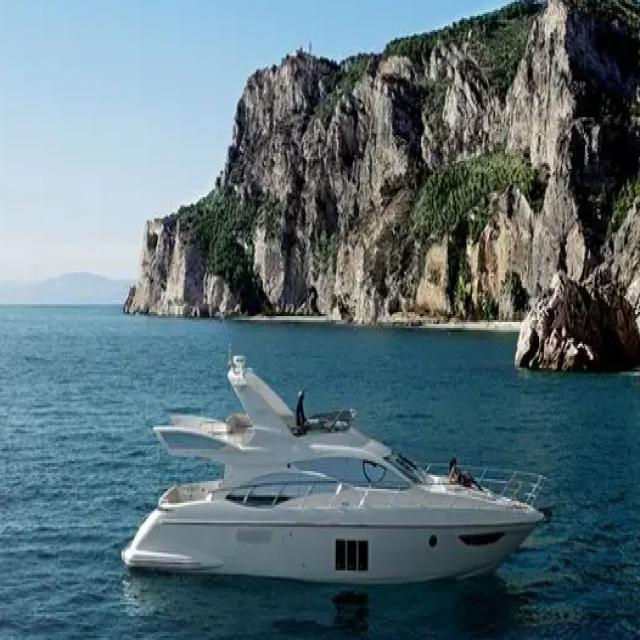houseboat: (119, 332, 553, 612)
